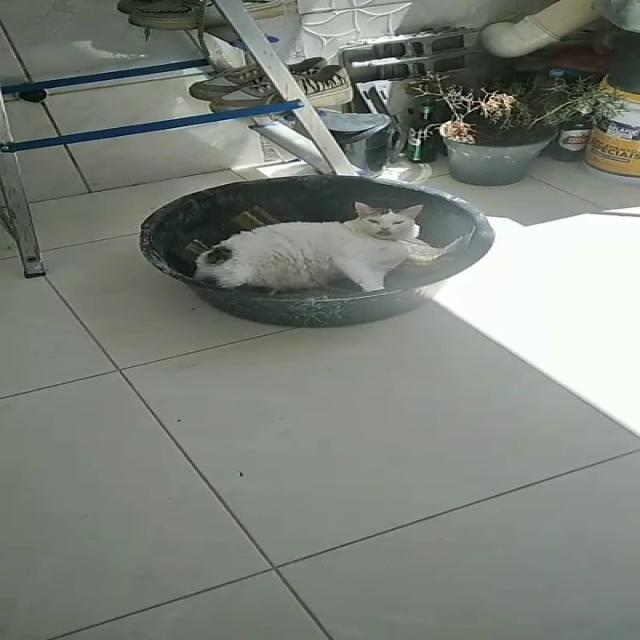Simba: (207, 199, 450, 285)
